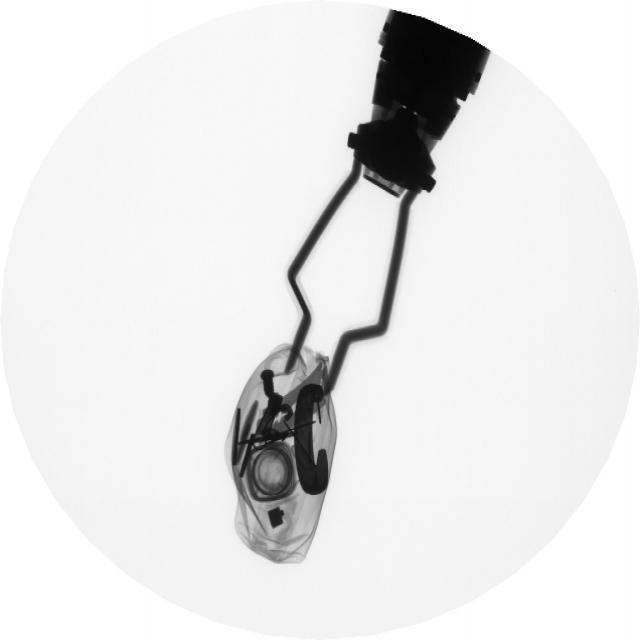BLADE: (257, 396, 301, 438)
